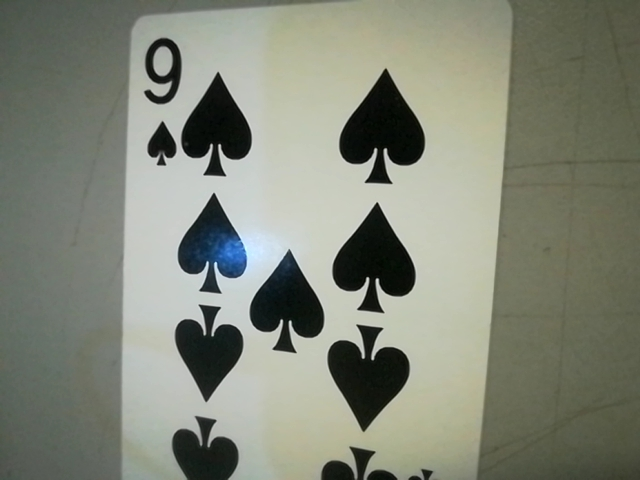ht 9: (128, 22, 191, 176)
